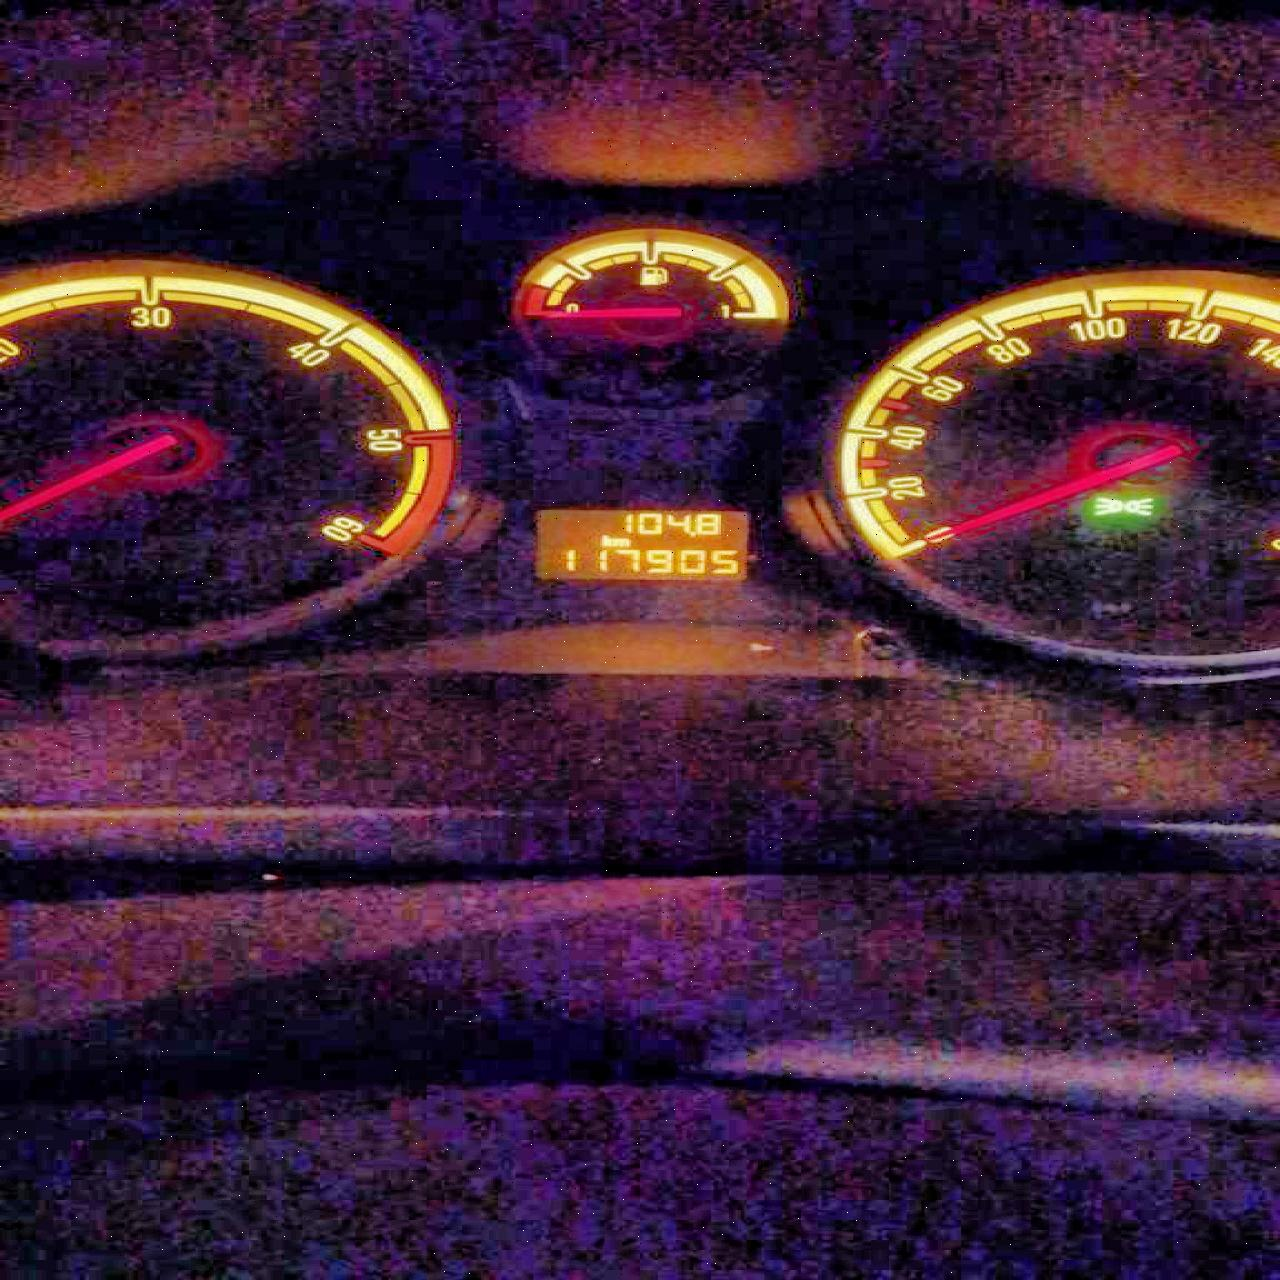-: (687, 529, 695, 536)
0: (675, 547, 704, 573), (635, 511, 662, 533)
1: (564, 546, 578, 572), (595, 547, 608, 572), (622, 511, 633, 533)
4: (665, 512, 689, 532)
5: (709, 547, 738, 572)
7: (611, 547, 640, 572)
8: (692, 511, 720, 533)
9: (642, 547, 670, 572)
X: (610, 536, 629, 546), (598, 533, 610, 546)
odometer: (529, 508, 751, 581)
